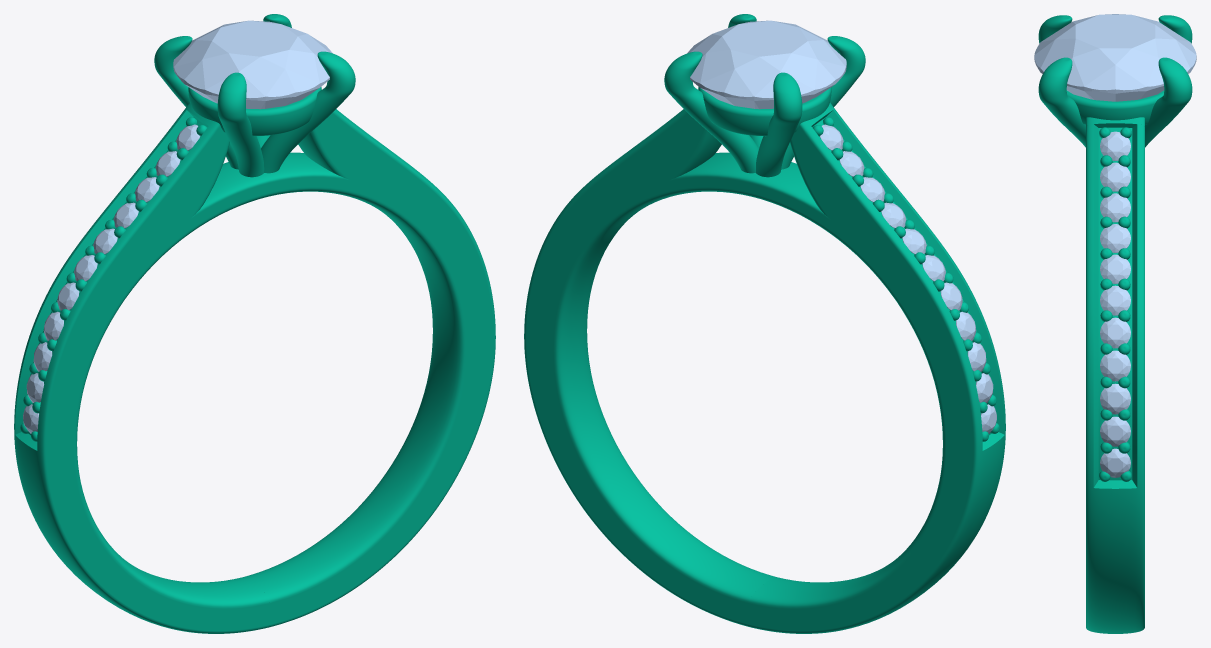
The picture shows the model from 3 angles, left to right: view 1: azimuth 30°, elevation 25°; view 2: azimuth 150°, elevation 25°; view 3: azimuth 270°, elevation 25°; orthographic projection.
Visible parts, largest first — view 1: JTC 0006(front).3dm, Diamond_Round; view 2: JTC 0006(front).3dm, Diamond_Round; view 3: JTC 0006(front).3dm, Diamond_Round, Gem On Curve Advanced Gem (×11).
Boxes of the visible parts, left/top/right/bottom form: JTC 0006(front).3dm: left=14, top=14, right=495, bottom=633; Diamond_Round: left=173, top=20, right=332, bottom=109; JTC 0006(front).3dm: left=524, top=14, right=1005, bottom=633; Diamond_Round: left=687, top=20, right=846, bottom=109; JTC 0006(front).3dm: left=1038, top=15, right=1192, bottom=633; Diamond_Round: left=1034, top=14, right=1196, bottom=101; Gem On Curve Advanced Gem (×11): left=1100, top=131, right=1130, bottom=477.
Size of the model in its own units: 2.5 by 3.02 by 0.7687.
